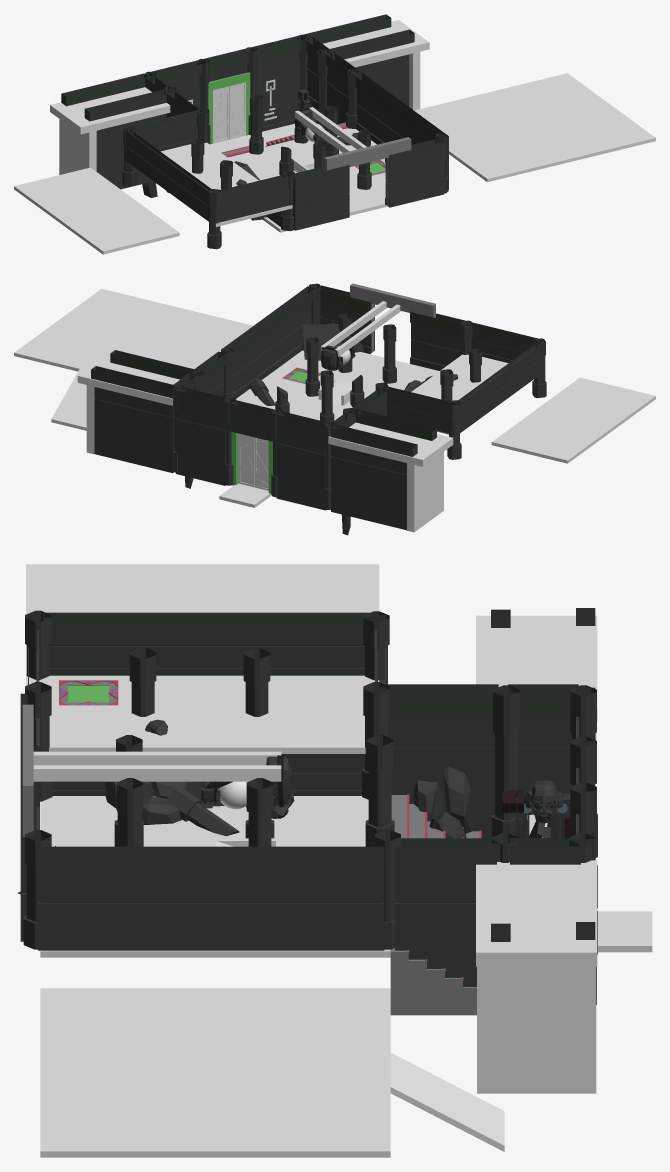
The model's file is Puzzle2Fini.FBX.
3 renders of one model, top to bottom at view 1: azimuth 30°, elevation 25°; view 2: azimuth 150°, elevation 25°; view 3: azimuth 270°, elevation 25°, orthographic. The views are drawn at different scales.
Parts seen in each view (by area): view 1: BACKUP BOOL, BACKUP bool, wall_xl002, wall_xl008, wall_xl, Box001, wall_xl001, wall_xl013, wall_s004, wall_xl011, wall_s002, Box060 (+30 smaller); view 2: BACKUP BOOL, BACKUP bool, wall_xl010, wall_xl012, wall_xl002, wall_xl007, wall_xl008, Box001, wall_s004, wall_xl, Box059, wall_s003 (+33 smaller); view 3: BACKUP BOOL, wall_xl002, Box002, wall_s004, BACKUP bool, Box058, Box001, Box061, wall_xl004, wall_xl003, Box060, wall_xl005 (+29 smaller).
Boxes of the visible parts, x1=… form: BACKUP BOOL: x1=414, y1=73, x2=655, y2=182; BACKUP bool: x1=14, y1=167, x2=179, y2=254; wall_xl002: x1=354, y1=72, x2=448, y2=188; wall_xl008: x1=251, y1=35, x2=304, y2=131; wall_xl: x1=290, y1=165, x2=349, y2=230; Box001: x1=228, y1=128, x2=448, y2=232; wall_xl001: x1=385, y1=139, x2=443, y2=207; wall_xl013: x1=84, y1=88, x2=172, y2=189; wall_s004: x1=124, y1=129, x2=213, y2=221; wall_xl011: x1=327, y1=29, x2=414, y2=106; wall_s002: x1=212, y1=174, x2=289, y2=223; Box060: x1=50, y1=87, x2=170, y2=134; BACKUP BOOL: x1=14, y1=288, x2=253, y2=430; BACKUP bool: x1=491, y1=377, x2=655, y2=463; wall_xl010: x1=91, y1=366, x2=177, y2=472; wall_xl012: x1=331, y1=424, x2=417, y2=530; wall_xl002: x1=223, y1=286, x2=315, y2=398; wall_xl007: x1=276, y1=411, x2=330, y2=510; wall_xl008: x1=176, y1=386, x2=229, y2=485; Box001: x1=236, y1=350, x2=439, y2=420; wall_s004: x1=454, y1=342, x2=542, y2=432; wall_xl: x1=410, y1=311, x2=466, y2=370; Box059: x1=407, y1=452, x2=443, y2=532; wall_s003: x1=380, y1=385, x2=457, y2=434; BACKUP BOOL: x1=40, y1=988, x2=504, y2=1157; wall_xl002: x1=38, y1=846, x2=384, y2=950; Box002: x1=26, y1=673, x2=379, y2=753; wall_s004: x1=43, y1=612, x2=378, y2=675; BACKUP bool: x1=26, y1=564, x2=379, y2=644; Box058: x1=477, y1=966, x2=596, y2=1093; Box001: x1=40, y1=796, x2=390, y2=957; Box061: x1=476, y1=860, x2=597, y2=966; wall_xl004: x1=385, y1=684, x2=498, y2=838; wall_xl003: x1=395, y1=838, x2=496, y2=986; Box060: x1=476, y1=615, x2=597, y2=721; wall_xl005: x1=508, y1=684, x2=578, y2=796.
Size of the model in its own units: 7144 by 1532 by 3565.
10 materials, 6 textured.
